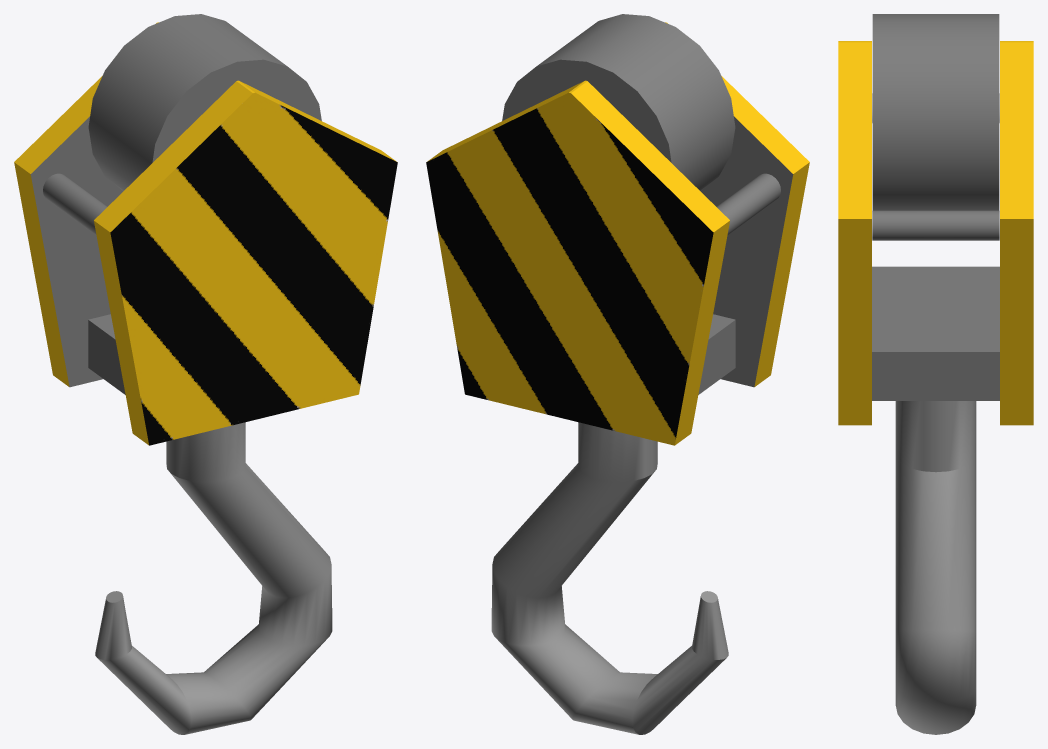
The model's file is crane_hook.fbx.
3 views of the same model, side by side, from view 1: azimuth 30°, elevation 25°; view 2: azimuth 150°, elevation 25°; view 3: azimuth 270°, elevation 25° (orthographic).
Visible parts, largest first — view 1: crane_hook; view 2: crane_hook; view 3: crane_hook.
Boxes of the visible parts, bbox=[...] form: crane_hook: bbox=[14, 14, 397, 734]; crane_hook: bbox=[426, 14, 809, 734]; crane_hook: bbox=[838, 14, 1033, 734].
Bounding box in the file's own units: 0.25 × 0.5695 × 0.145.
Materials: 1 (1 with a texture image).
